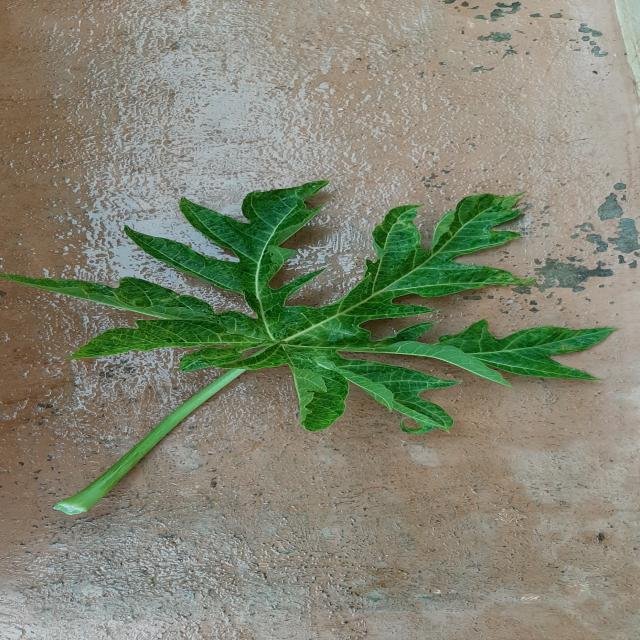papaya: (5, 181, 612, 446)
